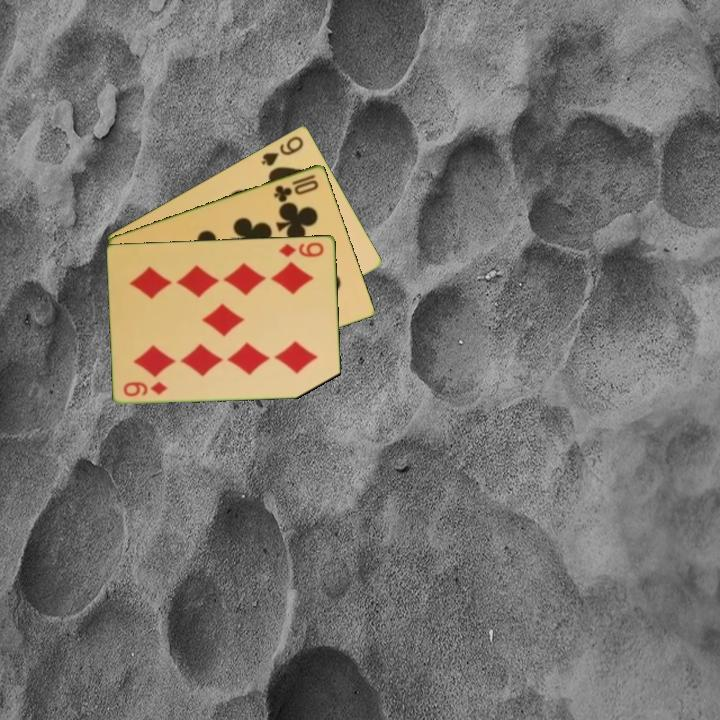10c: (270, 171, 322, 204)
9d: (275, 238, 327, 260), (120, 377, 171, 399)
9s: (258, 132, 307, 169)
